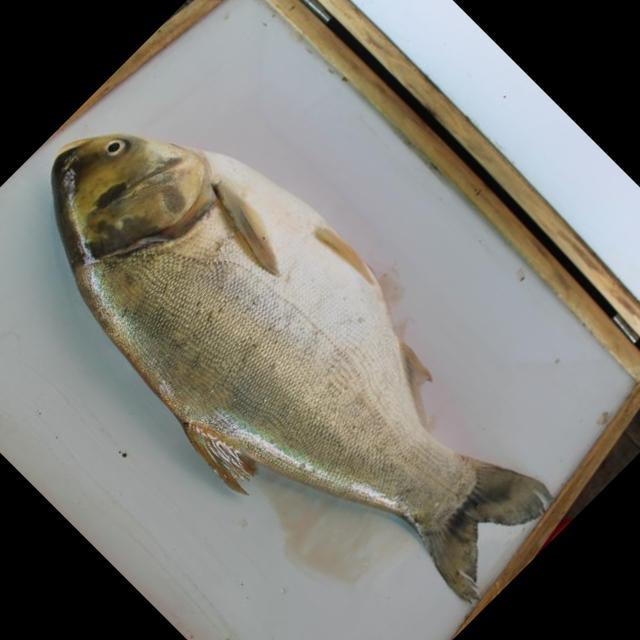SilverCarp: (46, 139, 549, 605)
